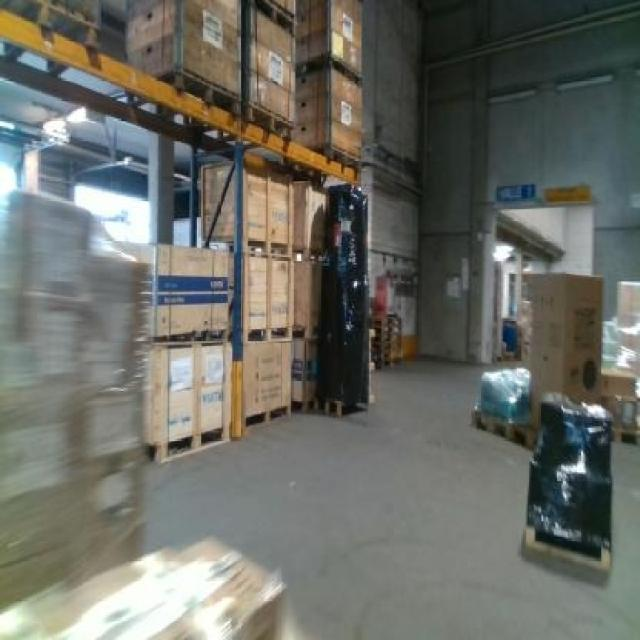pallets: (0, 535, 282, 637), (526, 391, 609, 557), (523, 274, 598, 429)
